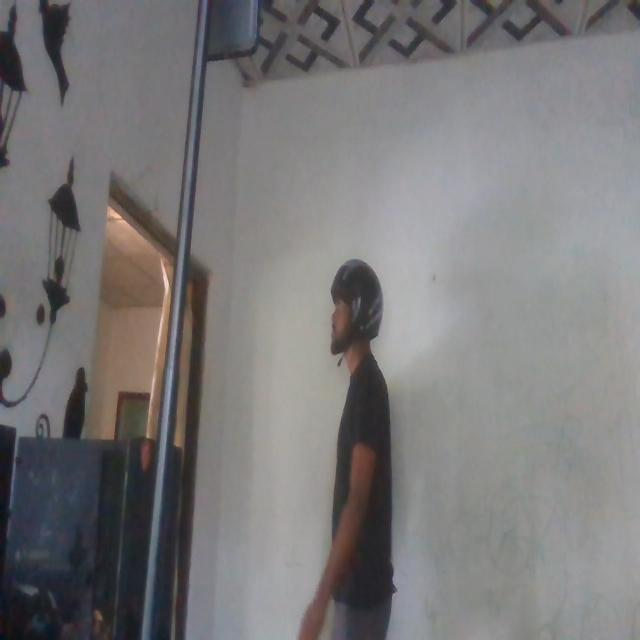Helmet_Wearer: (327, 258, 387, 366)
Person: (305, 249, 406, 640)
